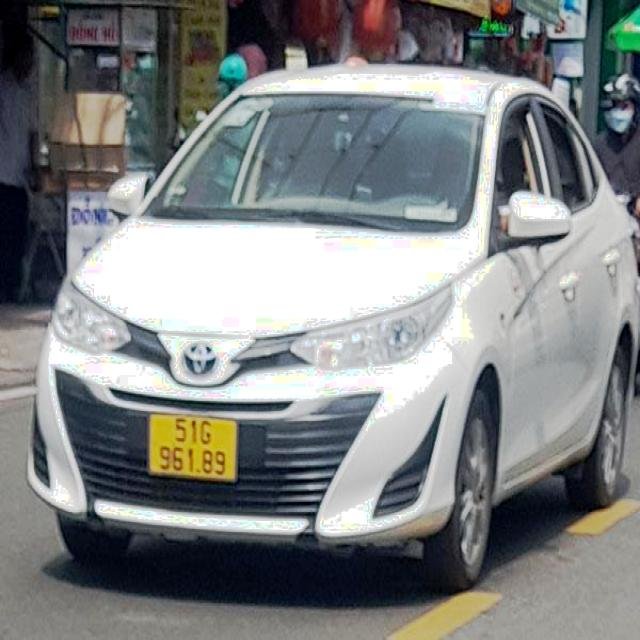license_plate: (151, 415, 237, 482)
